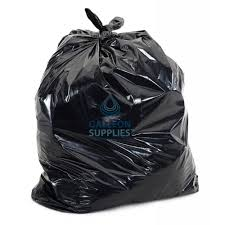Trash: (14, 6, 211, 215)
